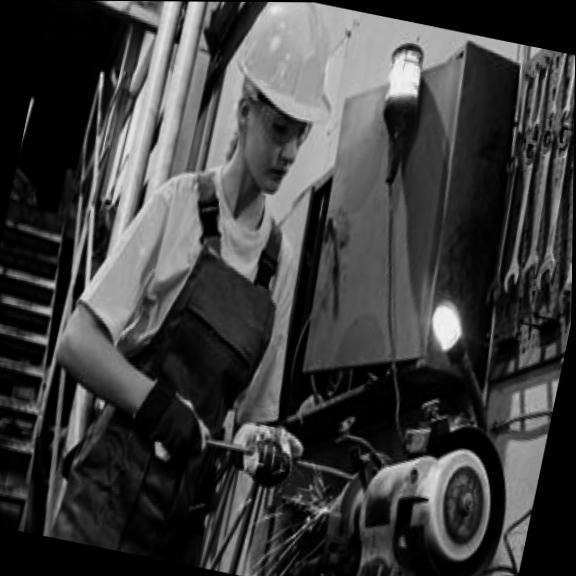no_safety_vest: (34, 150, 325, 576)
